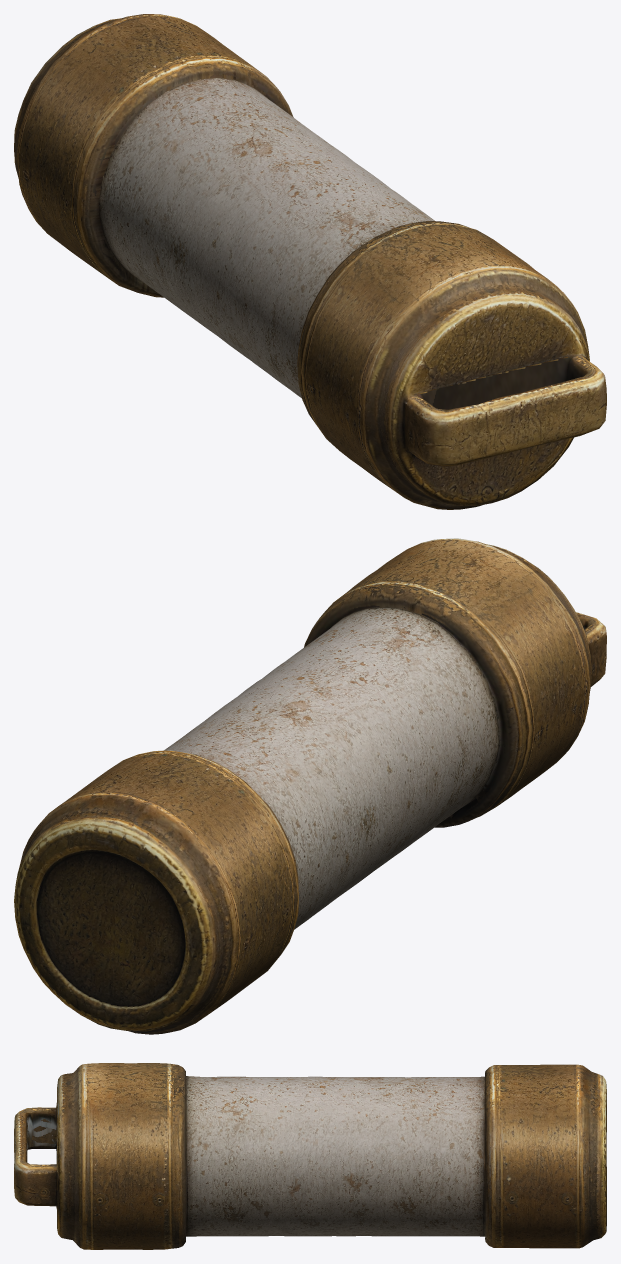
Rendered from BKI_Fuse.fbx.
The picture shows the model from 3 angles, top to bottom: view 1: azimuth 30°, elevation 25°; view 2: azimuth 150°, elevation 25°; view 3: azimuth 270°, elevation 25°; orthographic projection. The views are drawn at different scales.
Visible parts, largest first — view 1: texture_mapping; view 2: texture_mapping; view 3: texture_mapping.
Part boxes in pixels (x1,y1,x2,y2): texture_mapping: (14, 14, 606, 509); texture_mapping: (14, 538, 606, 1034); texture_mapping: (14, 1063, 606, 1249).
Bounding box in the file's own units: 0.3173 × 1 × 0.3152.
Materials: 1 (1 with a texture image).
